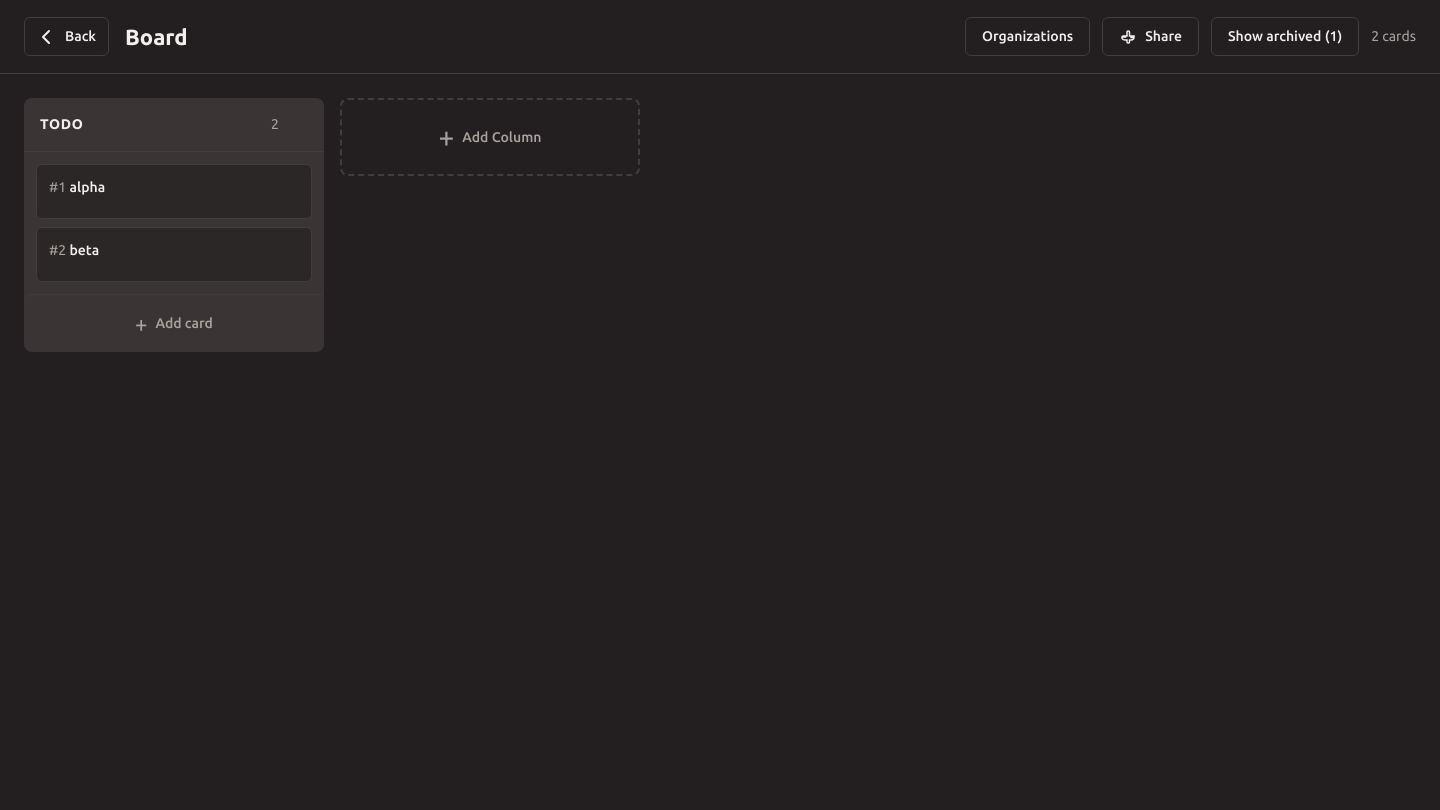
Scenario: archiving a card › unarchives from the card itself
Click the button "Show archived (1)". click: click(1285, 36)
box: [1211,17,1359,56]
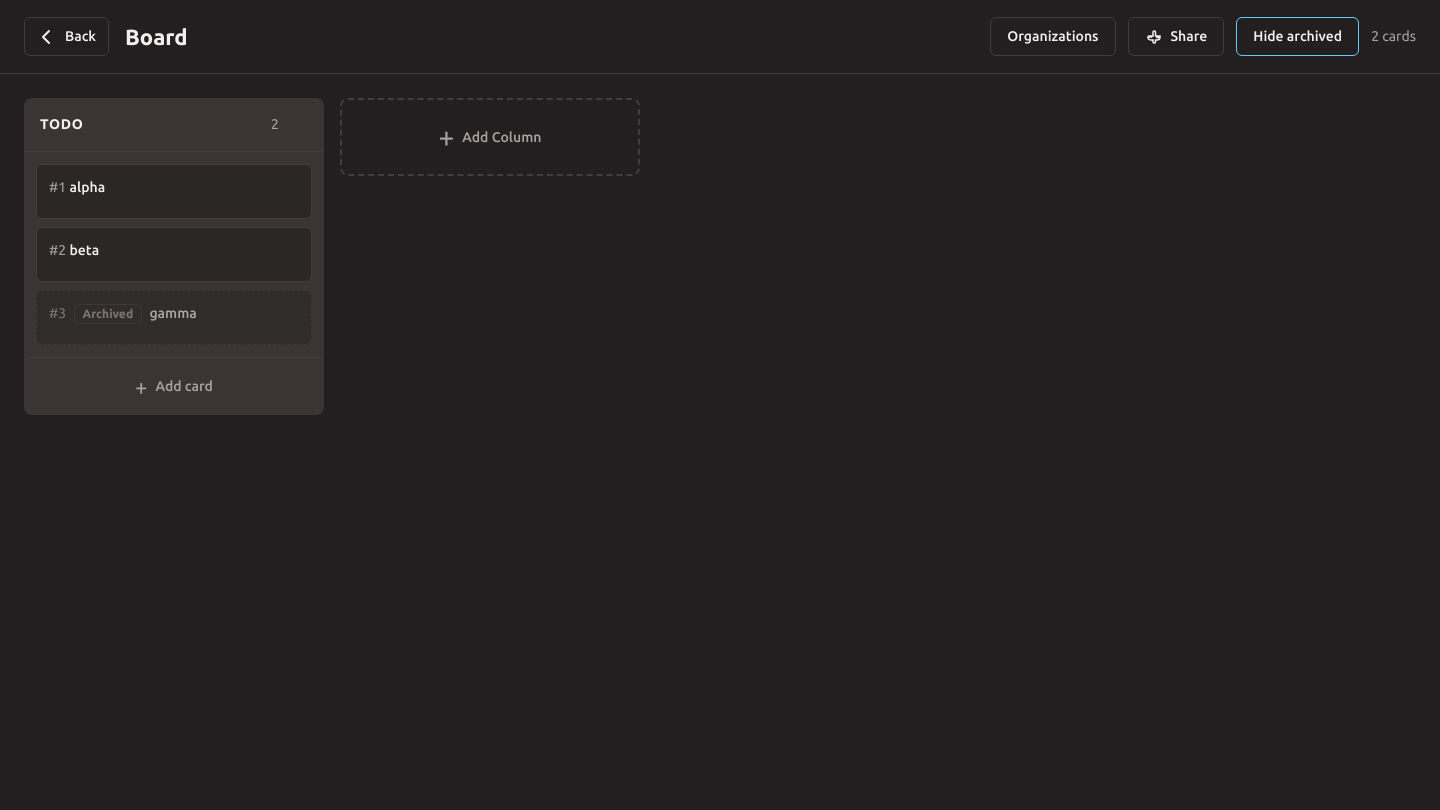
Click the text "gamma". click: click(123, 314)
box: [49,303,197,324]
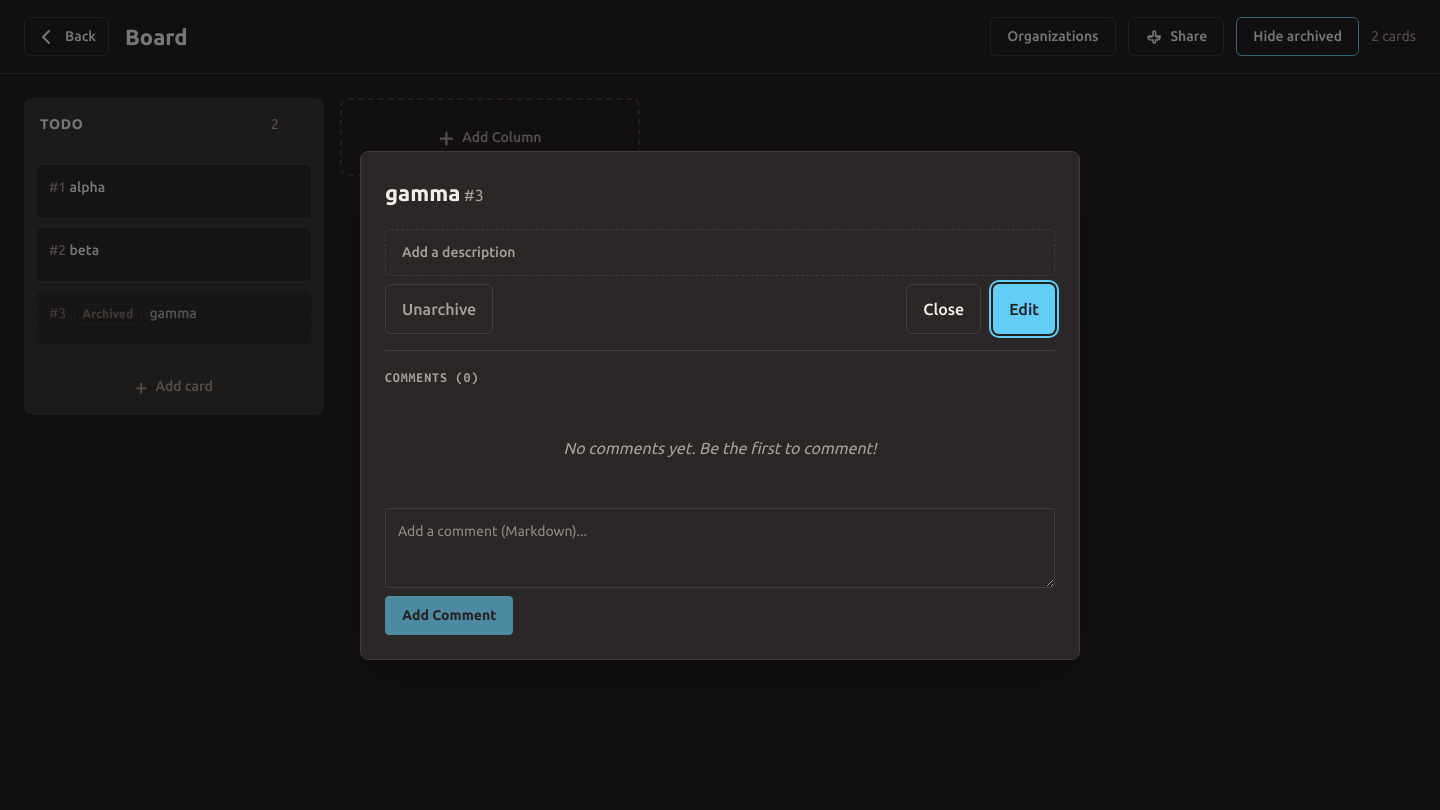
Click the button "Unarchive". click: click(439, 308)
box: [385,284,493,334]
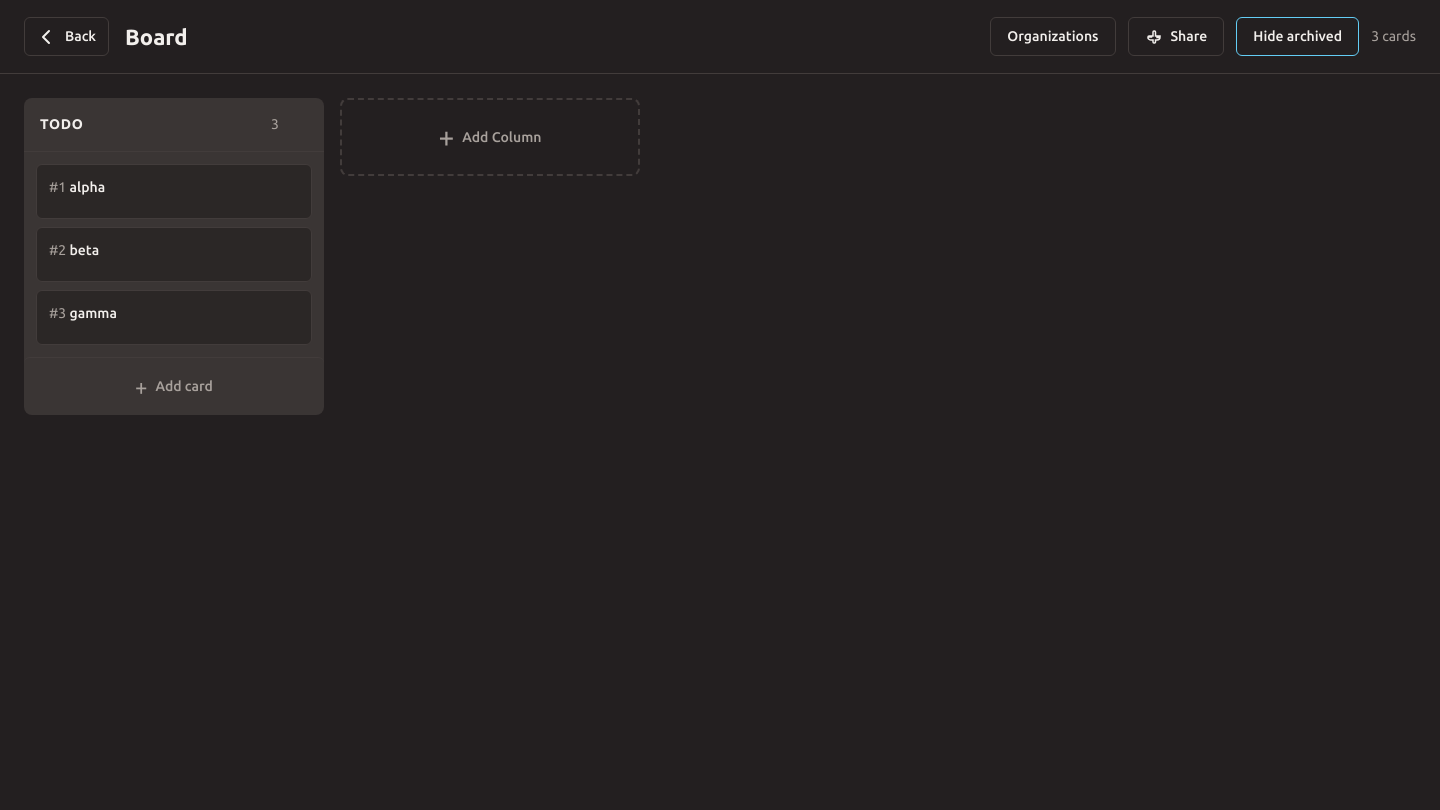
Check: the text "3 cards" is shown, box [1371,26,1416,47]
